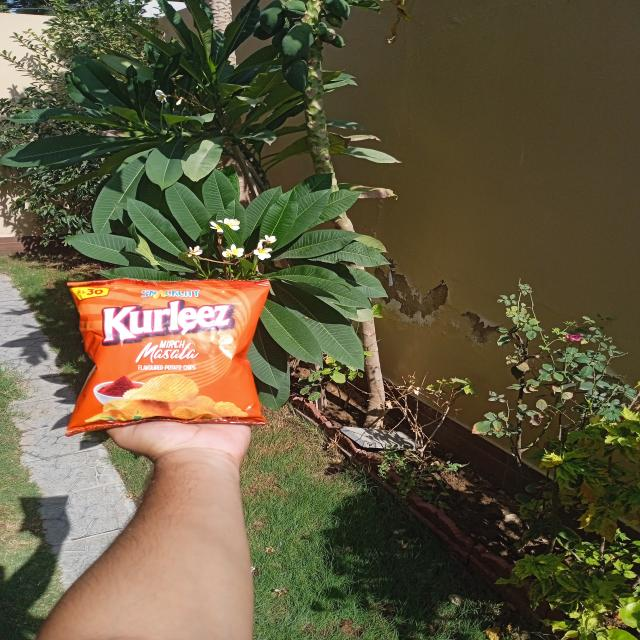Plastic: (62, 276, 270, 430)
